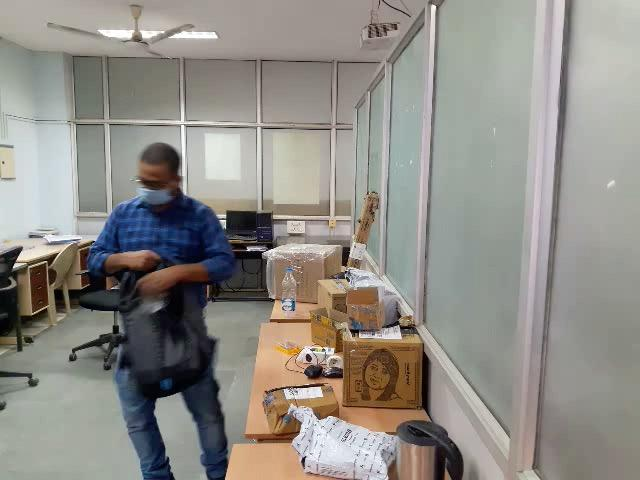shoplifting: (68, 238, 260, 420)
